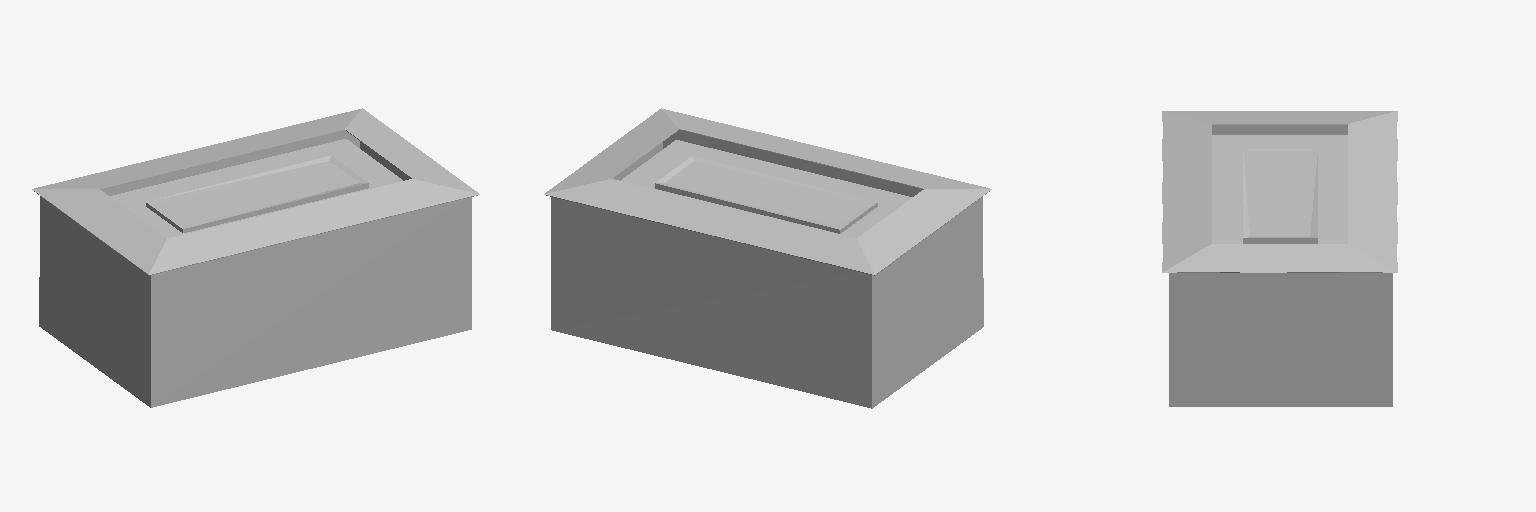
File: SponzaOccluder2.obj
3 views of the same model, side by side, from view 1: azimuth 30°, elevation 25°; view 2: azimuth 150°, elevation 25°; view 3: azimuth 270°, elevation 25° (orthographic).
Parts seen in each view (by area): view 1: Object.37, Object.50, Object.11, Object.83, Object.52; view 2: Object.37, Object.50, Object.83, Object.11, Object.52; view 3: Object.37, Object.50, Object.11, Object.83, Object.52.
Part boxes in pixels (x1,y1,x2,y2): Object.37: (39,130,471,407); Object.50: (32,108,479,275); Object.11: (110,139,402,237); Object.83: (146,161,358,232); Object.52: (146,156,368,232); Object.37: (551,130,983,408); Object.50: (544,108,991,275); Object.83: (655,161,877,225); Object.11: (621,140,912,237); Object.52: (655,156,877,233); Object.37: (1169,125,1392,406); Object.50: (1162,111,1397,272); Object.11: (1212,135,1347,243); Object.83: (1243,151,1317,243); Object.52: (1243,149,1317,240).
Size of the model in its own units: 3720836 by 1550544 by 2288232.